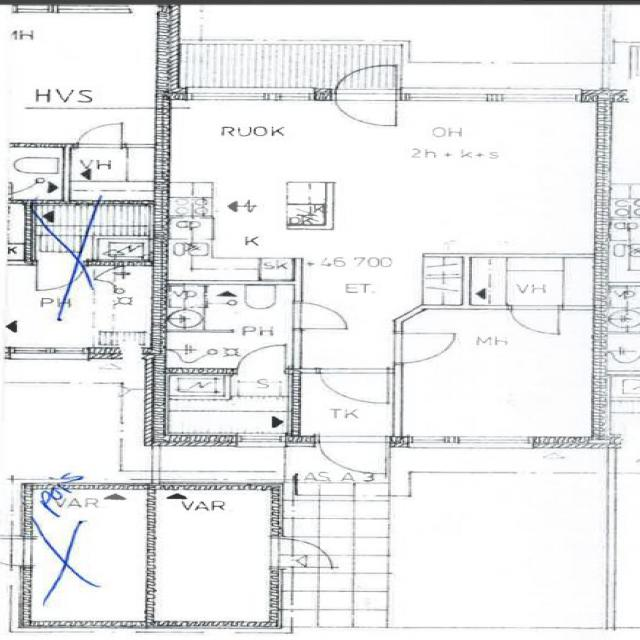door: (316, 436, 390, 484), (335, 55, 397, 100), (335, 88, 397, 132), (321, 369, 387, 408), (393, 332, 461, 364), (269, 538, 340, 568), (293, 302, 348, 328), (238, 344, 284, 374), (511, 305, 558, 334)
